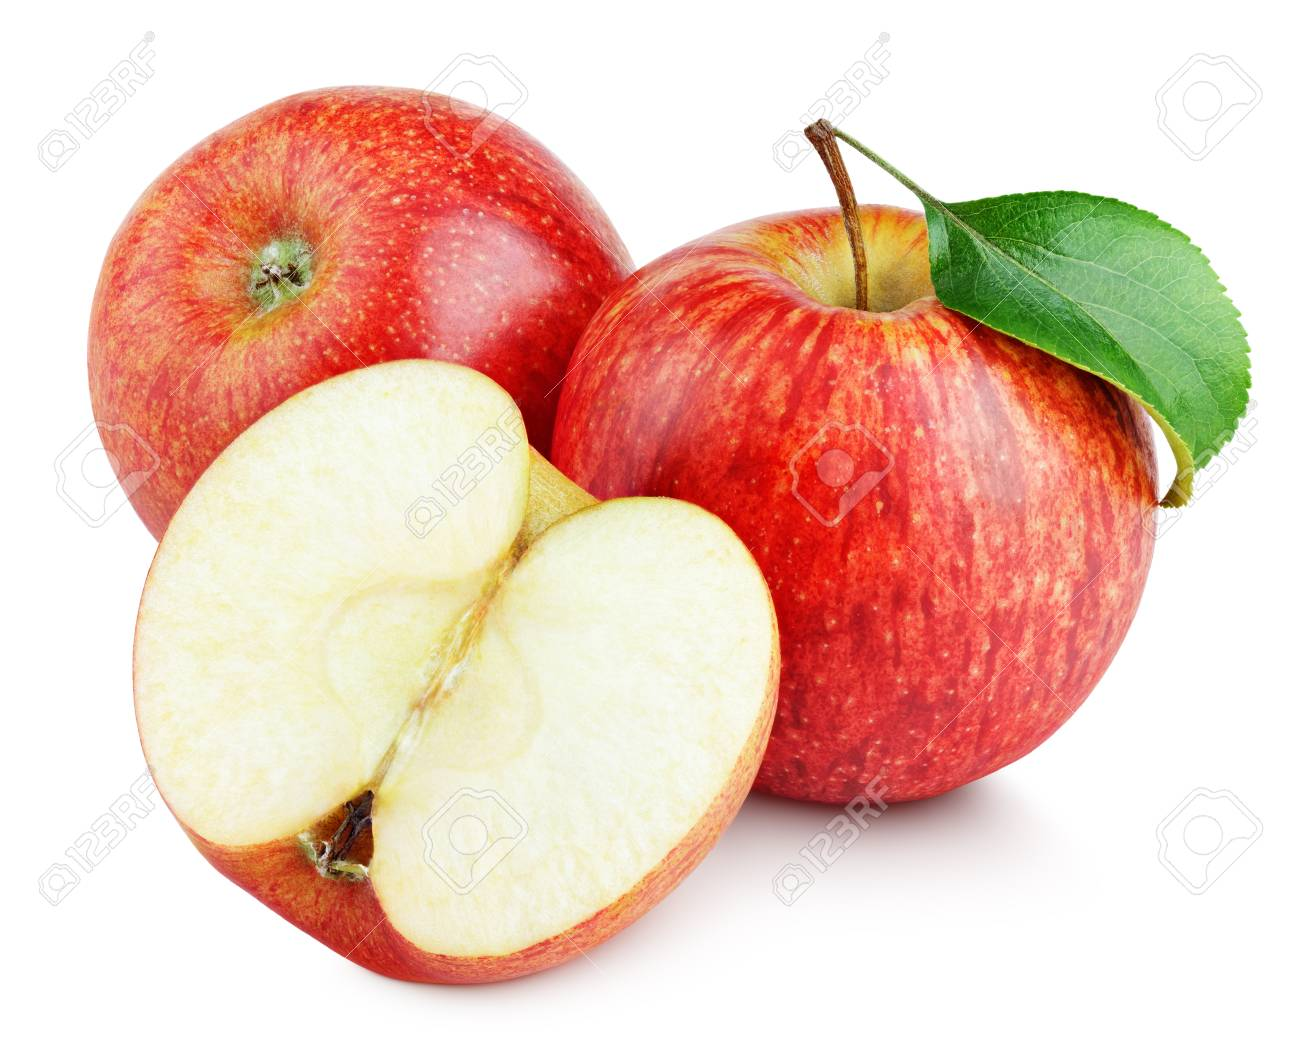Apple: (604, 96, 1299, 870), (95, 326, 780, 1037), (47, 63, 637, 463)
